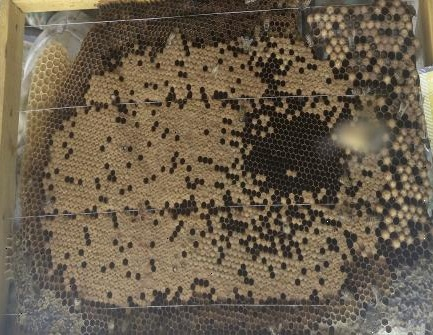cria: (39, 0, 433, 305)
